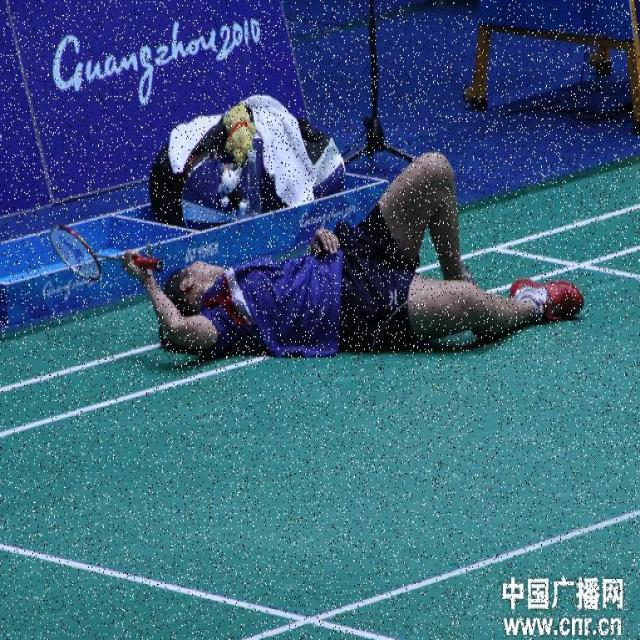fall: (155, 158, 576, 354)
